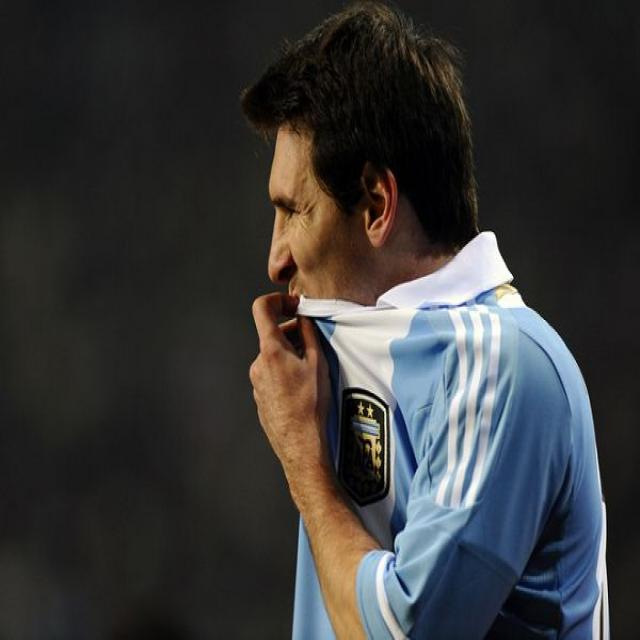nomask: (267, 111, 362, 341)
